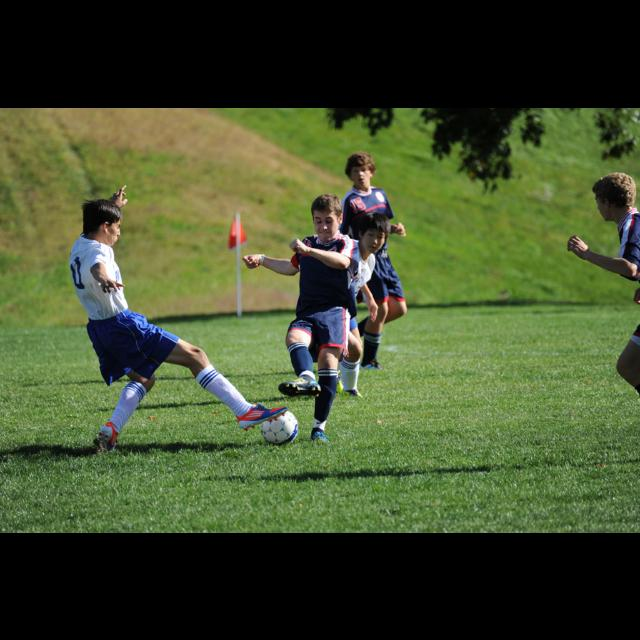Football: (258, 408, 298, 446)
